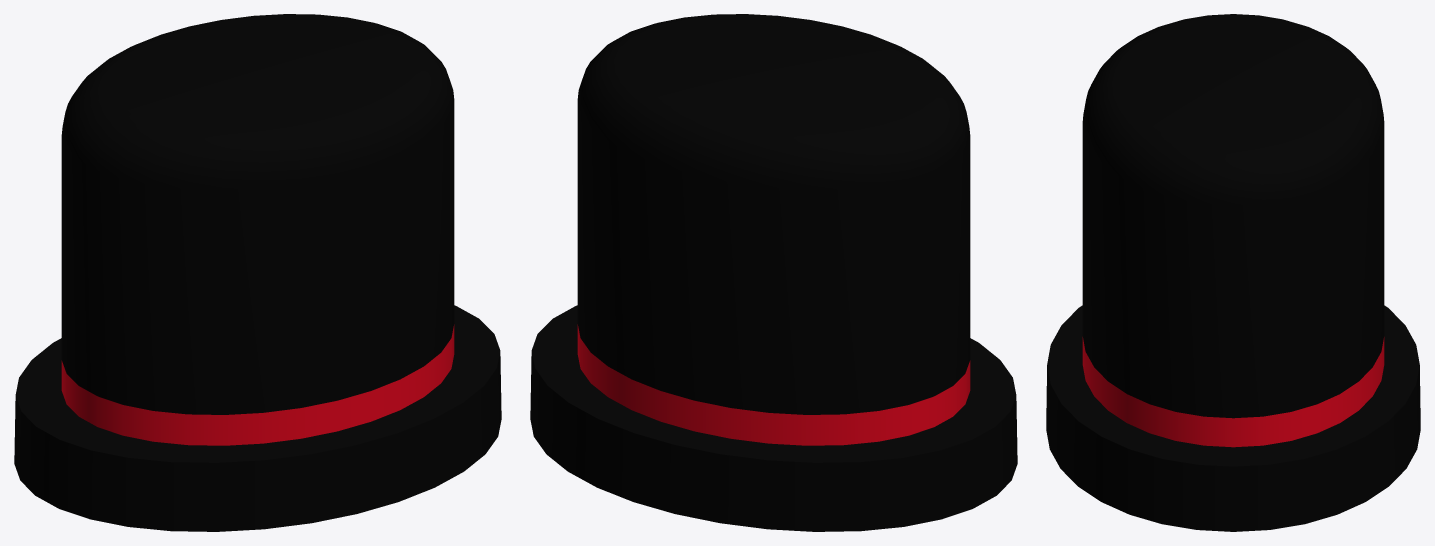
File: hat.glb
3 views of the same model, side by side, from view 1: azimuth 30°, elevation 25°; view 2: azimuth 150°, elevation 25°; view 3: azimuth 270°, elevation 25° (orthographic). The views are drawn at different scales.
Parts seen in each view (by area): view 1: Cylinder; view 2: Cylinder; view 3: Cylinder.
Boxes of the visible parts, bbox=[...] form: Cylinder: bbox=[14, 14, 501, 531]; Cylinder: bbox=[530, 14, 1017, 531]; Cylinder: bbox=[1046, 14, 1420, 531].
Bounding box in the file's own units: 2.49 × 1.97 × 1.92.
